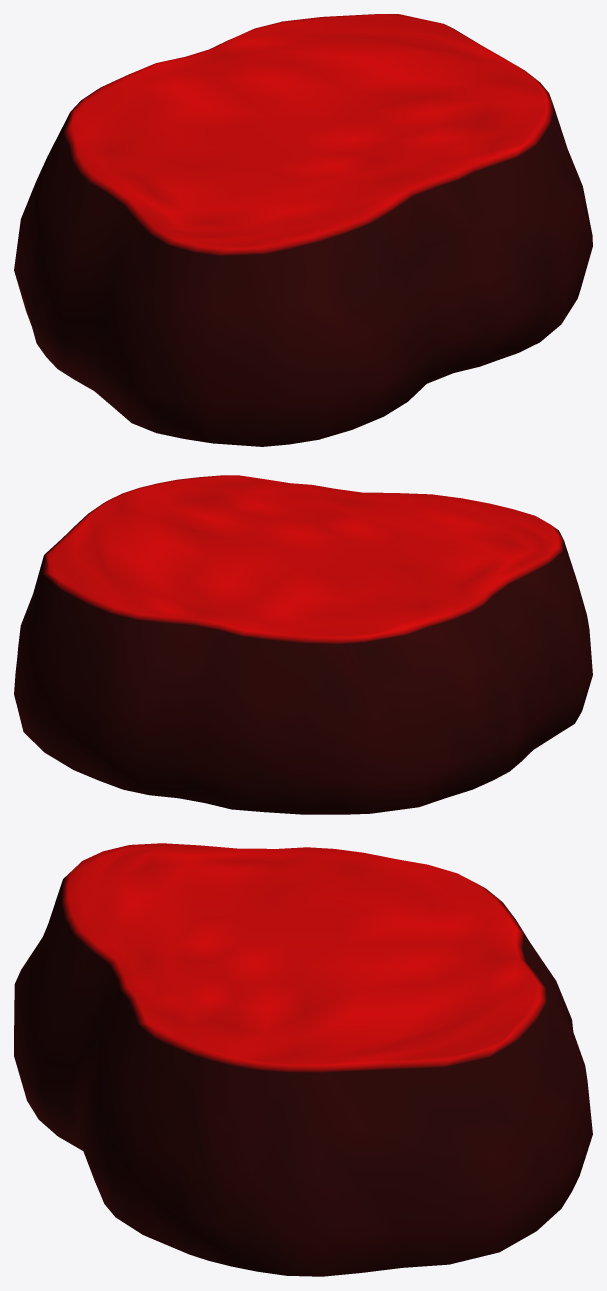
The model's file is geology-landforms-iceplateau_v1.fbx.
The picture shows the model from 3 angles, top to bottom: view 1: azimuth 30°, elevation 25°; view 2: azimuth 150°, elevation 25°; view 3: azimuth 270°, elevation 25°; orthographic projection. The views are drawn at different scales.
Visible parts, largest first — view 1: IcePlateau_v1; view 2: IcePlateau_v1; view 3: IcePlateau_v1.
Boxes of the visible parts, <box> form: IcePlateau_v1: <box>14,14,592,446</box>; IcePlateau_v1: <box>14,475,592,814</box>; IcePlateau_v1: <box>14,843,592,1276</box>.
Size of the model in its own units: 63.85 by 21.52 by 59.04.
